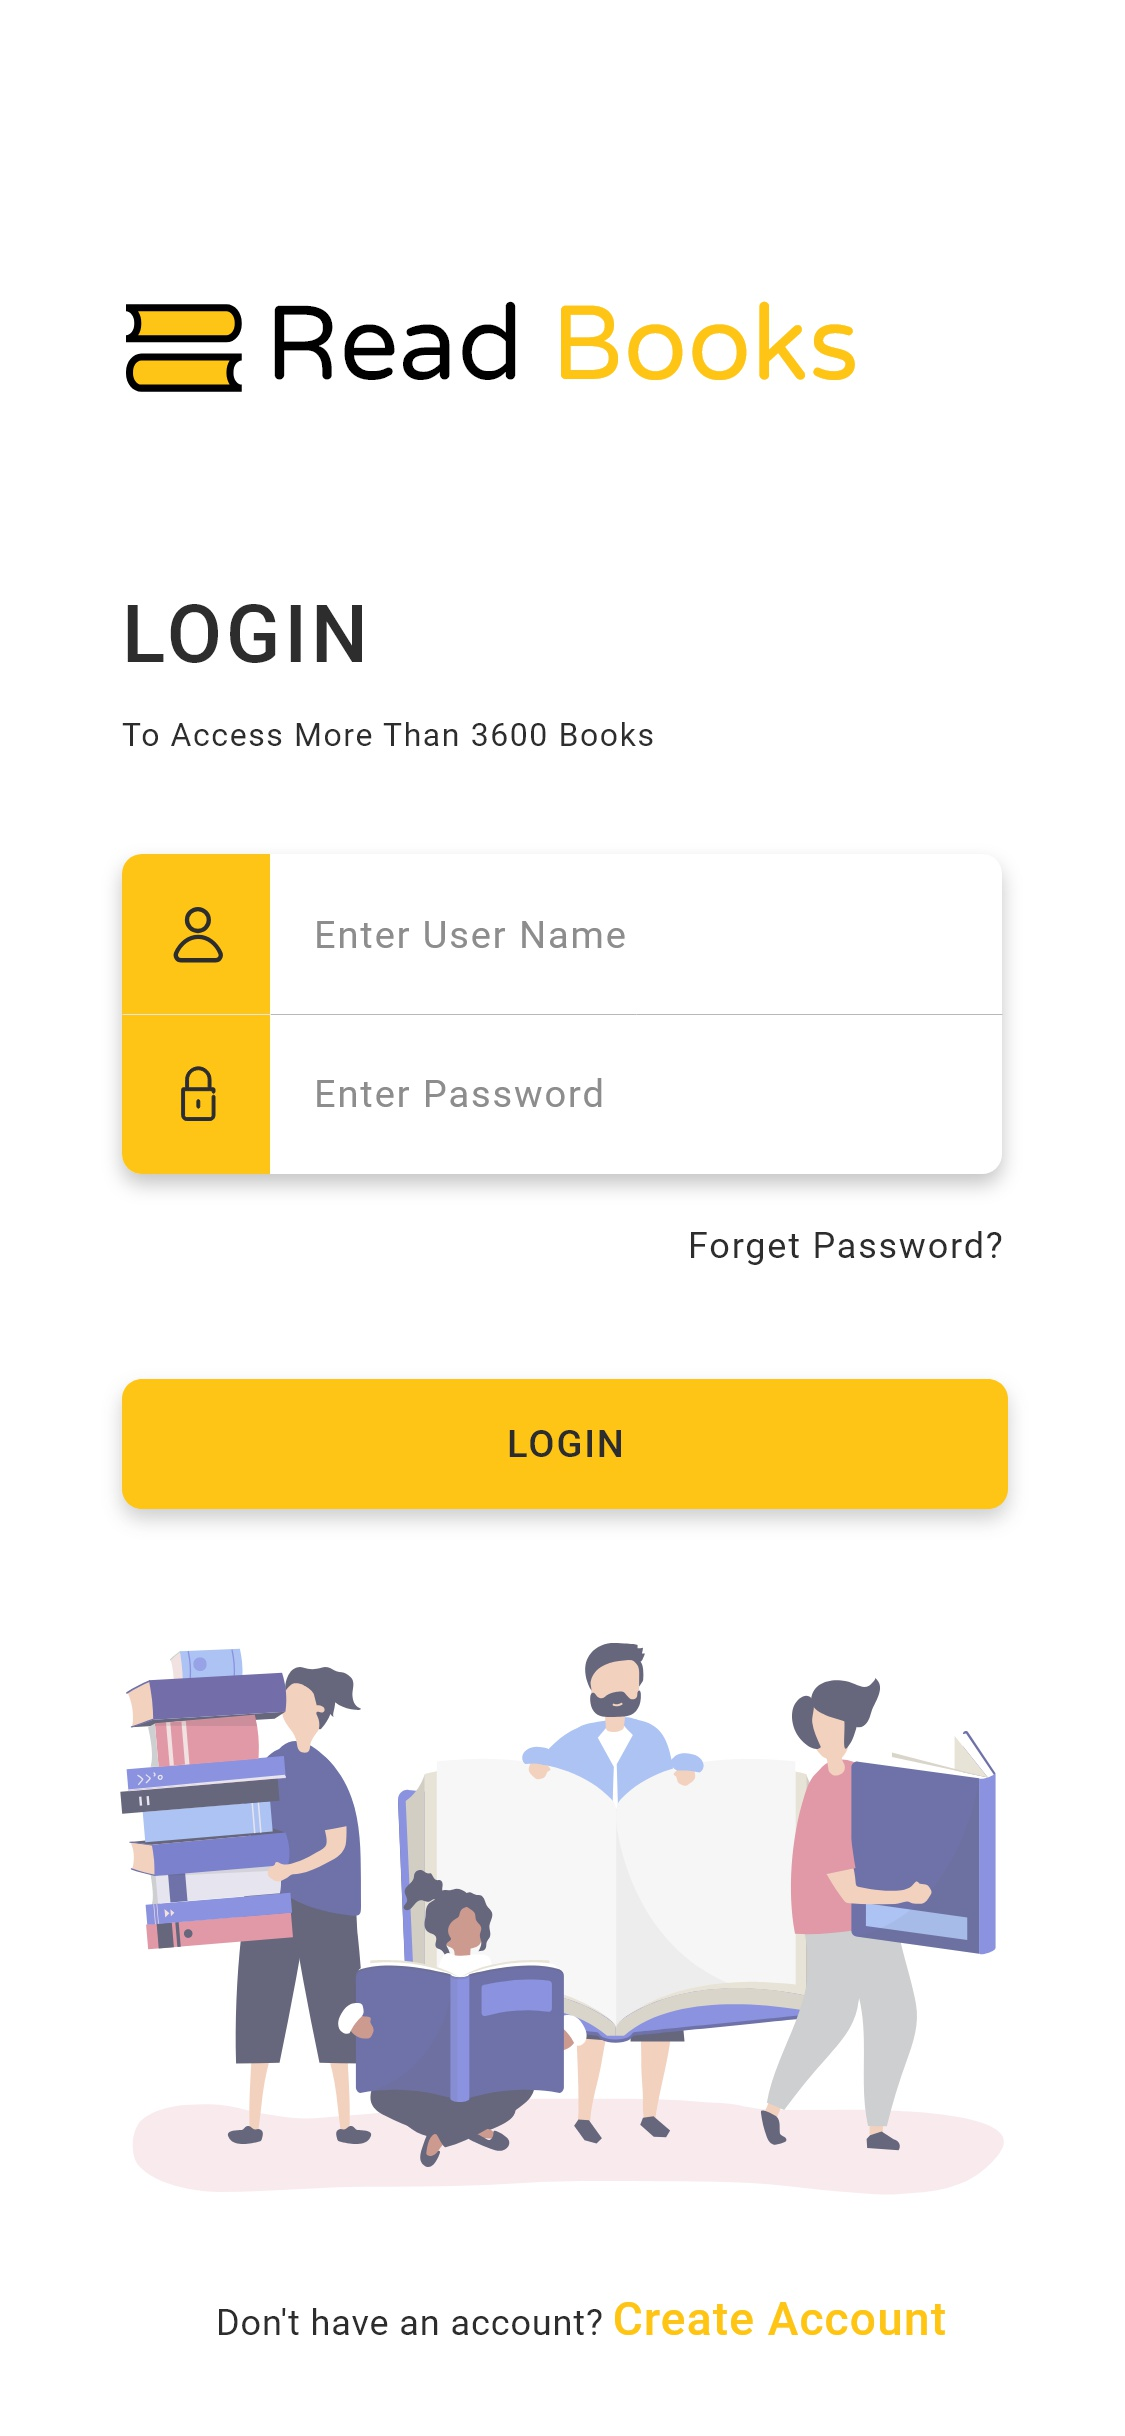EditText: (123, 854, 1002, 1016), (123, 1014, 1002, 1174)
Icon: (172, 907, 224, 965), (180, 1066, 218, 1122)
Image: (120, 1642, 1005, 2197), (126, 301, 856, 395)
Text: (127, 604, 364, 663), (123, 722, 654, 747), (614, 2301, 946, 2337), (219, 2307, 603, 2337), (691, 1230, 1002, 1266), (317, 921, 626, 949), (317, 1078, 601, 1108)
TextButton: (123, 1380, 1008, 1512)
